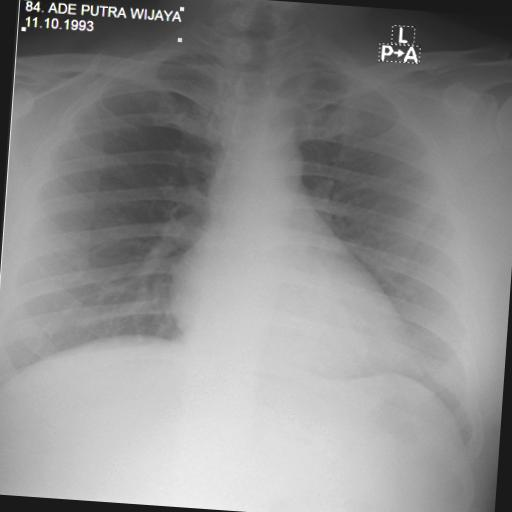kardiomegali: (0, 20, 510, 469)
